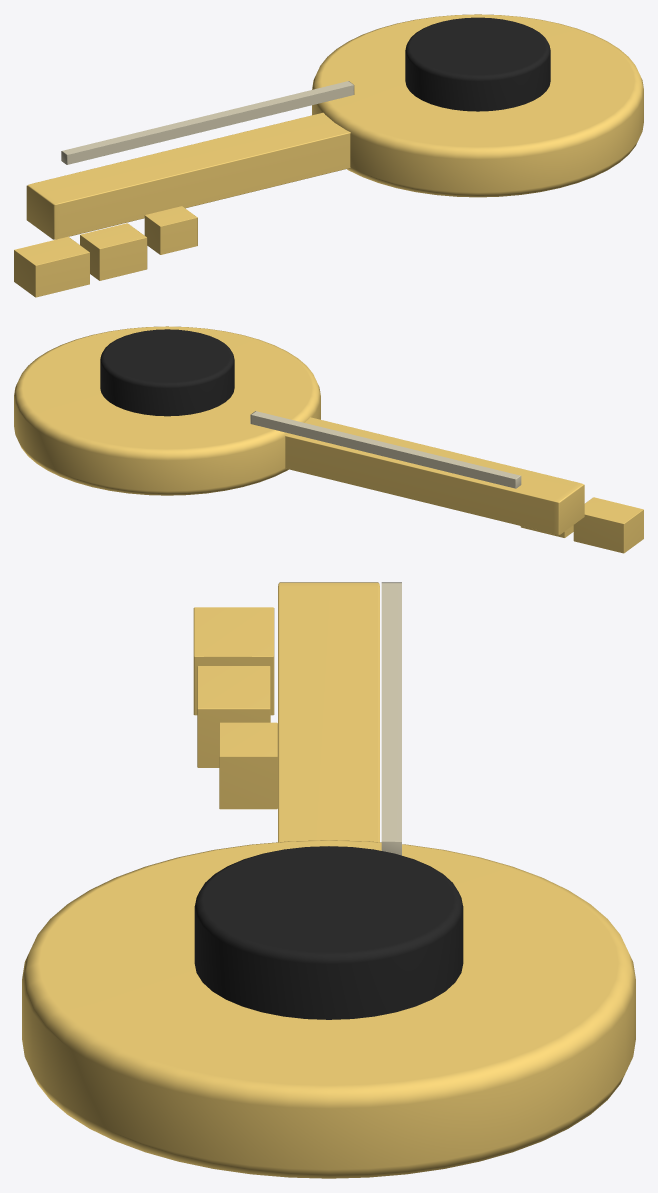
The model's file is key.glb.
3 views of the same model, one above another, from view 1: azimuth 30°, elevation 25°; view 2: azimuth 150°, elevation 25°; view 3: azimuth 270°, elevation 25° (orthographic). The views are drawn at different scales.
Visible parts, largest first — view 1: round key head, long key shaft, dark key hole, raised shaft ridge, big tooth, middle tooth, small tooth; view 2: round key head, long key shaft, dark key hole, raised shaft ridge, big tooth; view 3: round key head, dark key hole, long key shaft, raised shaft ridge, big tooth, middle tooth, small tooth.
Boxes of the visible parts, x1,y1,x2,y2 form: round key head: [312, 14, 643, 197]; long key shaft: [26, 112, 350, 239]; dark key hole: [405, 17, 550, 111]; raised shaft ridge: [61, 81, 354, 164]; big tooth: [14, 236, 89, 297]; middle tooth: [80, 223, 147, 280]; small tooth: [144, 206, 197, 254]; round key head: [14, 326, 320, 495]; long key shaft: [285, 417, 584, 534]; dark key hole: [100, 329, 234, 416]; raised shaft ridge: [250, 411, 521, 488]; big tooth: [573, 497, 643, 553]; round key head: [22, 840, 635, 1178]; dark key hole: [194, 846, 463, 1019]; long key shaft: [278, 582, 379, 842]; raised shaft ridge: [381, 582, 401, 855]; big tooth: [193, 607, 274, 715]; middle tooth: [197, 666, 270, 767]; small tooth: [219, 722, 277, 809].
Bounding box in the file's own units: 0.91 × 0.1505 × 0.42.
